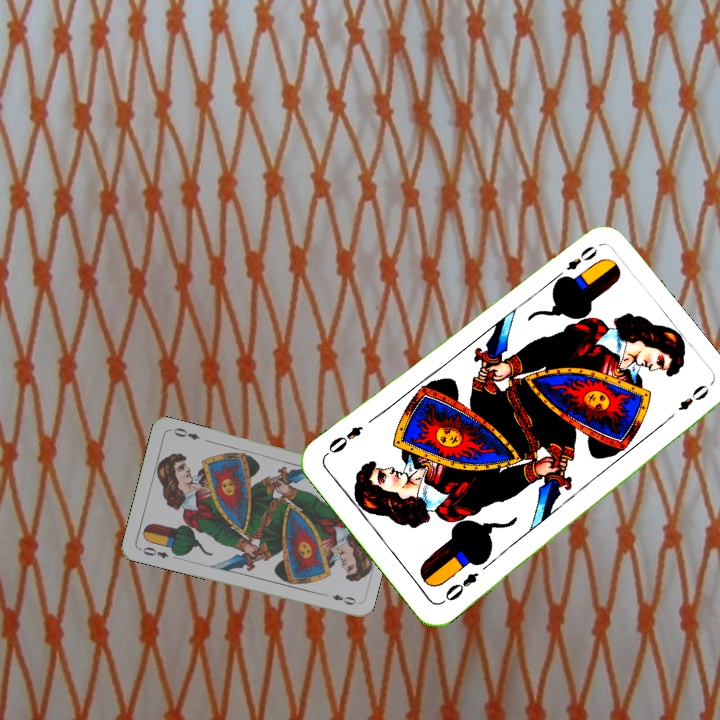EO: (550, 242, 601, 284), (437, 568, 481, 606), (135, 543, 171, 561)
